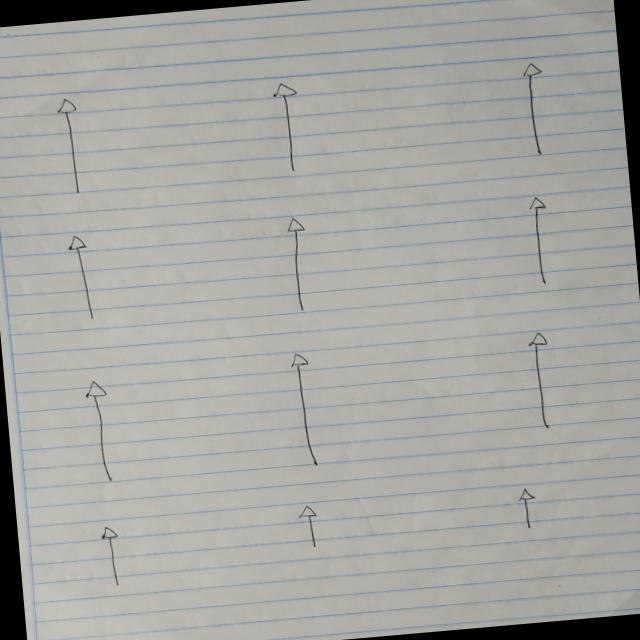arrow_line_up: (284, 350, 326, 469), (78, 378, 120, 483), (64, 230, 104, 324), (522, 330, 558, 430), (280, 212, 315, 312), (514, 59, 548, 159), (54, 96, 88, 195), (270, 80, 305, 173), (522, 194, 556, 286), (95, 522, 127, 590), (296, 500, 324, 550), (514, 484, 539, 530)
